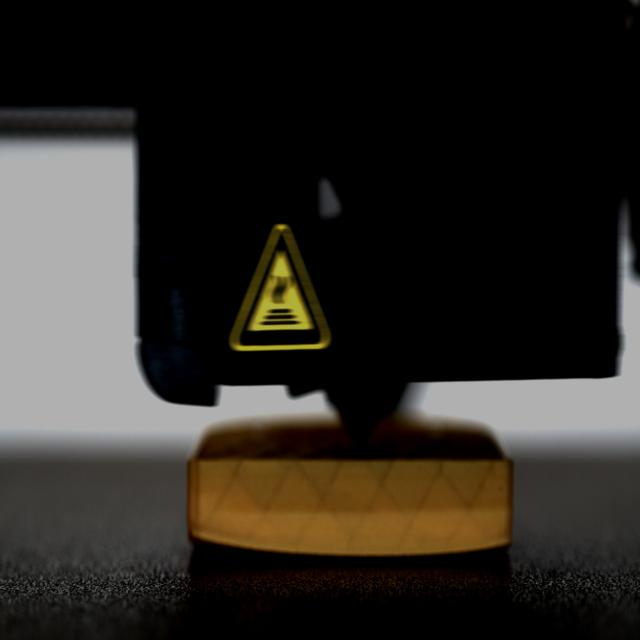Warping: (422, 531, 516, 562)
